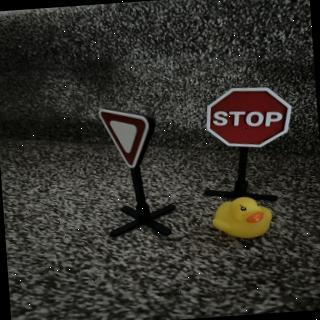duck_regular: (211, 196, 275, 243)
sign_stop: (205, 86, 296, 154)
sign_yield: (100, 107, 160, 172)
